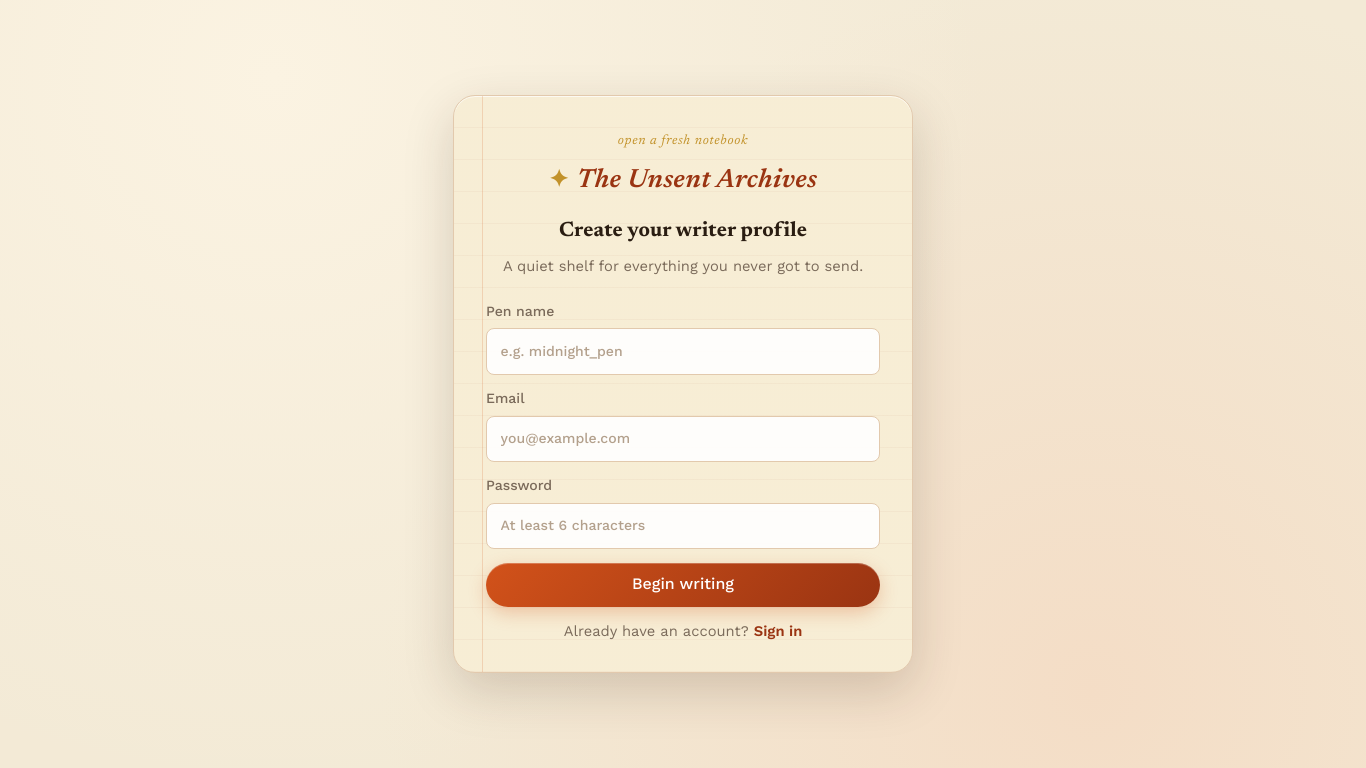
Register page › shows the API error message on failure
The image size is (1366, 768).
Type "quiet_ink" into the field with placeholder "e.g. midnight_pen" at [683, 352], box [486,328,880,375]
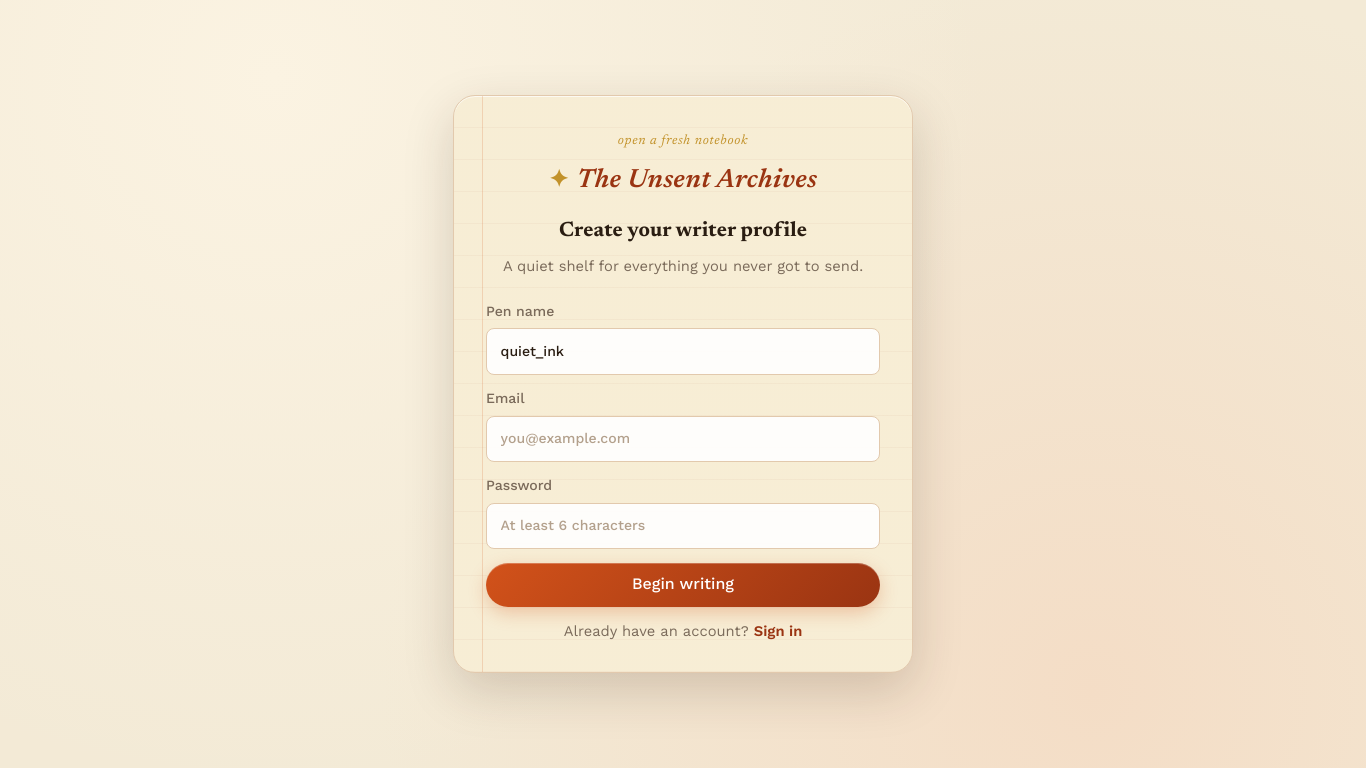
Type "q@example.com" into the field with placeholder "you@example.com" at [683, 439], box [486,416,880,462]
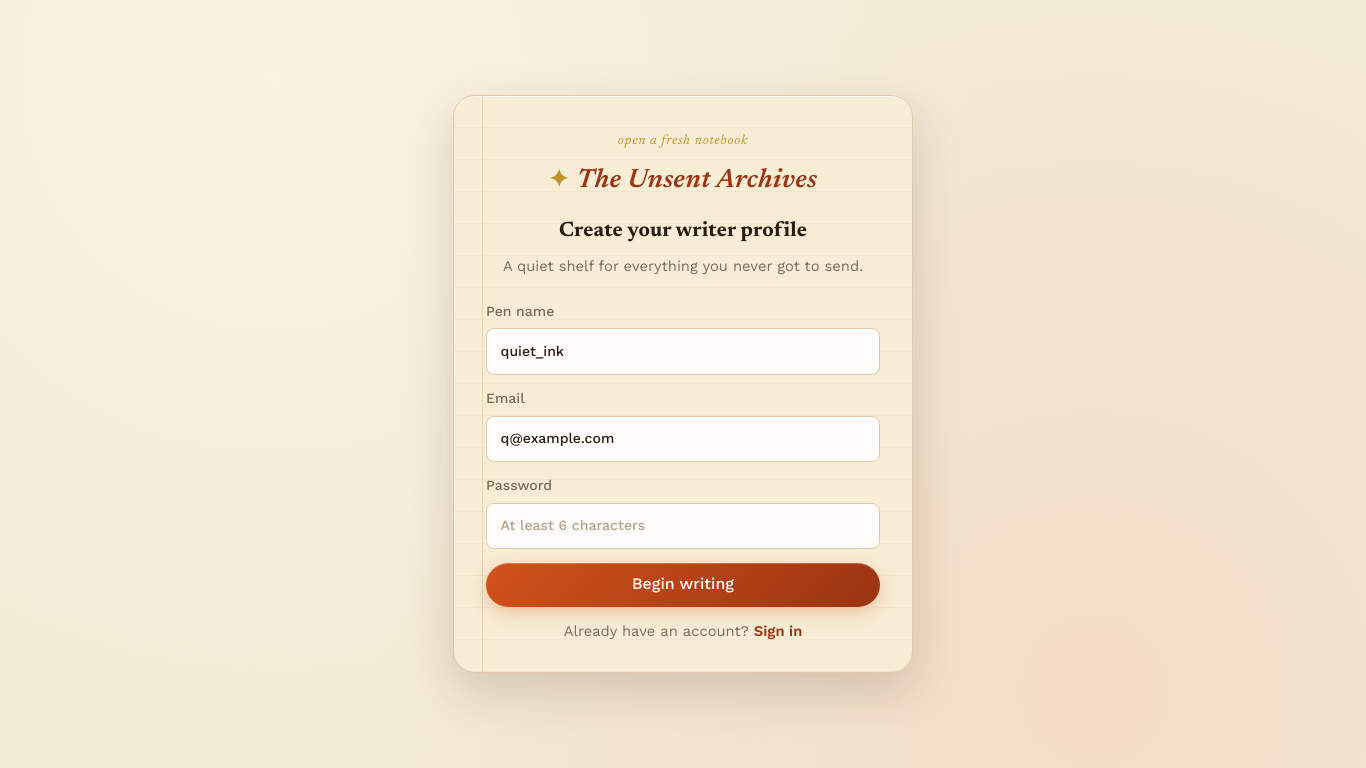
Type "hunter22" into the password field with placeholder "At least 6 characters" at [683, 526], box [486,503,880,549]
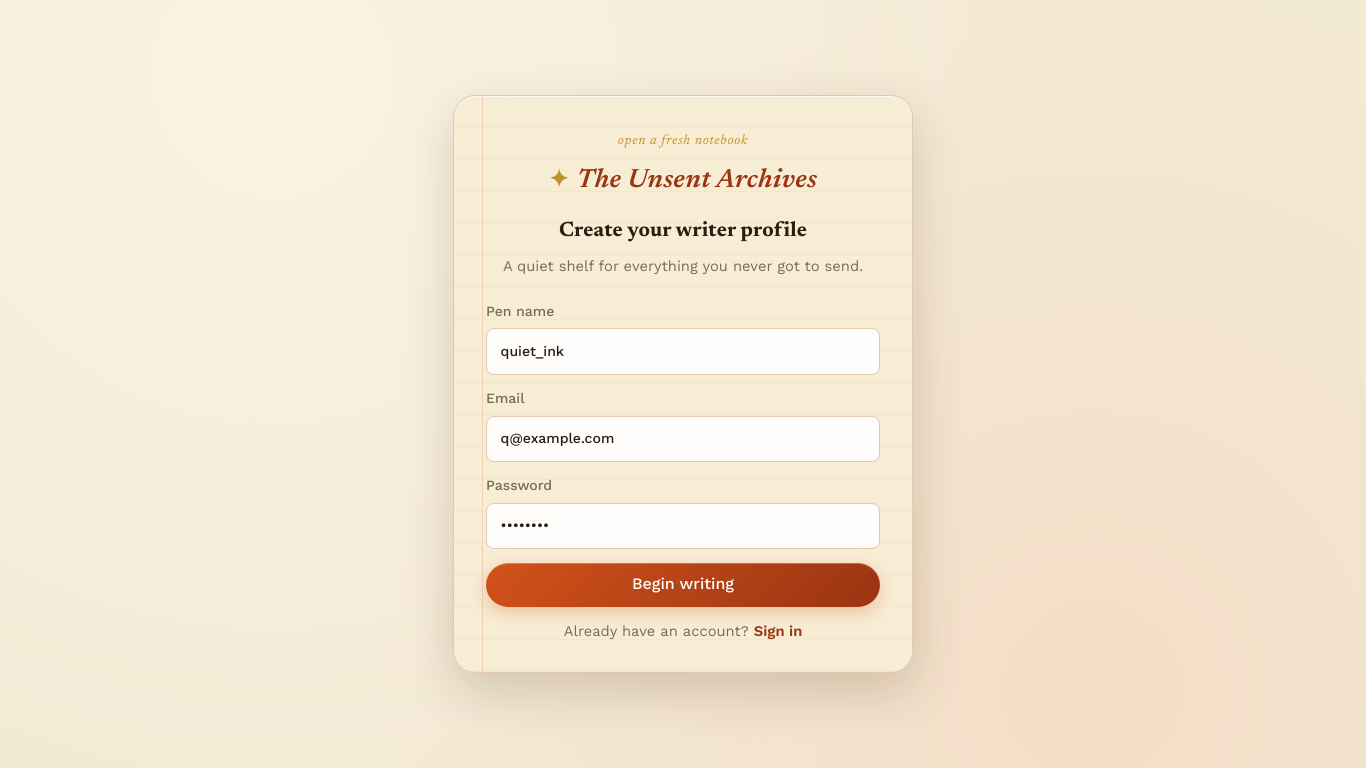
Click the button "Begin writing" at [683, 585], box [486,563,880,607]
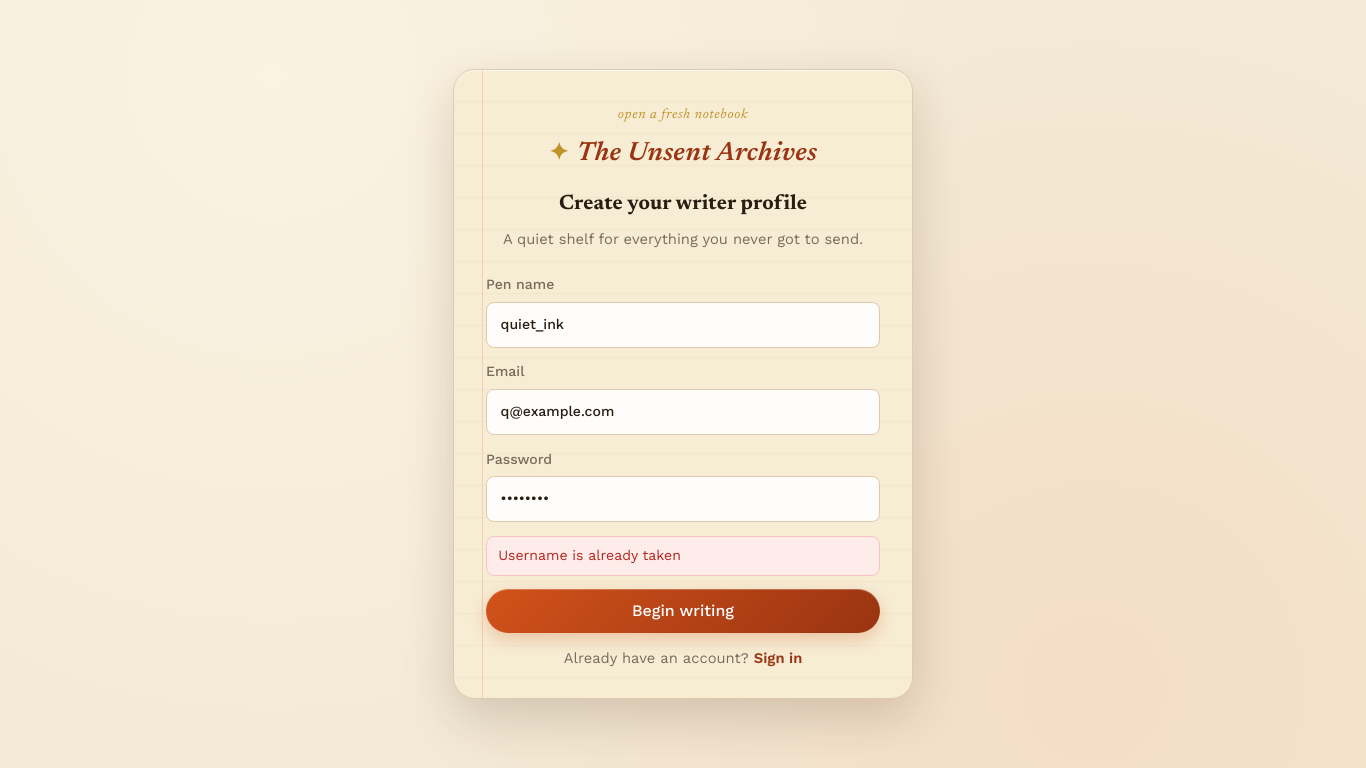
Check: the button "Begin writing" is enabled, box [486,589,880,633]
Check: the text "Username is already taken" is shown, box [486,536,880,576]
